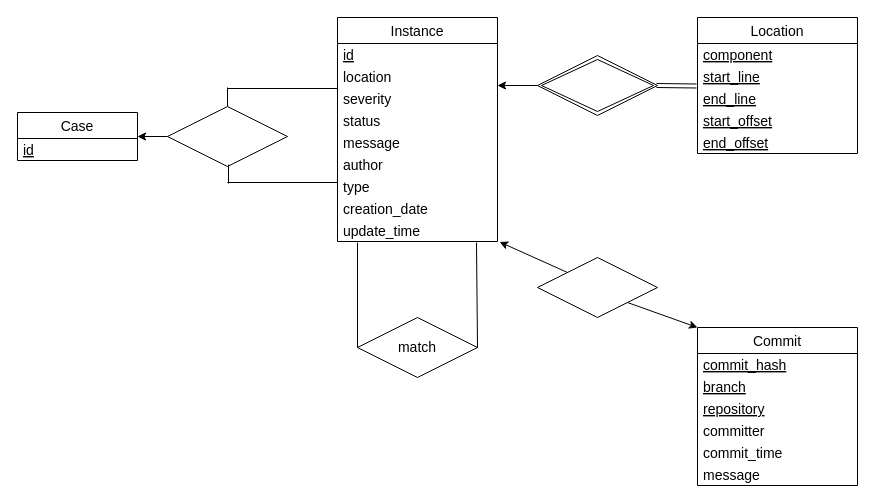
This 875x503 diagram has some shape labels left out. Here are the shapes that lost their labels. From the top down, the centre of each, then its label:
At [597,85]: "locate".
At [227,136]: "trace".
At [597,287]: "detect".
